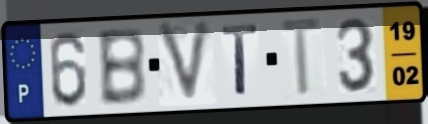3: (335, 15, 379, 97)
6: (47, 27, 89, 111)
B: (94, 25, 150, 108)
T: (277, 15, 328, 101), (219, 22, 261, 100)
V: (154, 18, 216, 109)
